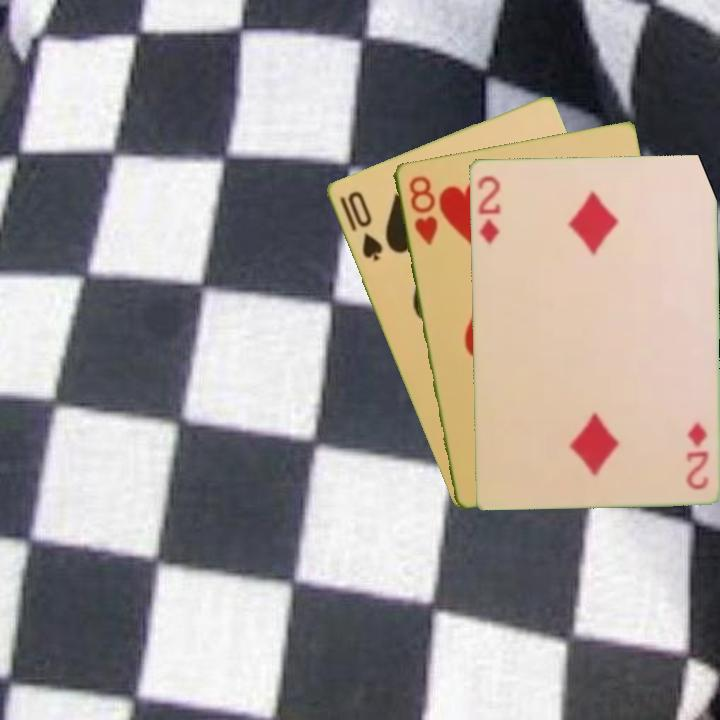10s: (336, 187, 385, 264)
2d: (474, 172, 503, 247), (683, 418, 712, 492)
8h: (405, 172, 440, 248)
